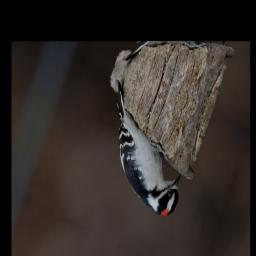Woodpecker: (82, 77, 206, 224)
